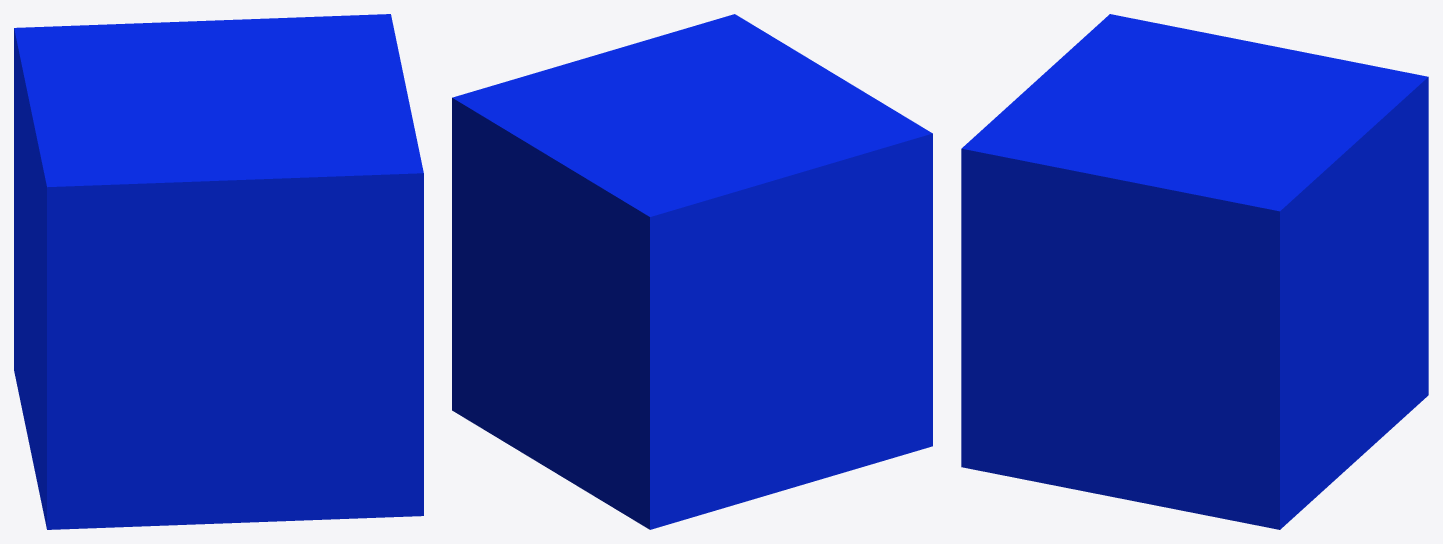
The model's file is BlueCube0622.FBX.
3 renders of one model, left to right at view 1: azimuth 30°, elevation 25°; view 2: azimuth 150°, elevation 25°; view 3: azimuth 270°, elevation 25°, orthographic. The views are drawn at different scales.
Visible parts, largest first — view 1: BlueCube; view 2: BlueCube; view 3: BlueCube.
Part boxes in pixels (bbox=[...]): BlueCube: bbox=[14, 14, 423, 529]; BlueCube: bbox=[452, 14, 932, 529]; BlueCube: bbox=[961, 14, 1428, 529].
Bounding box in the file's own units: 6.64 × 5 × 6.64.
